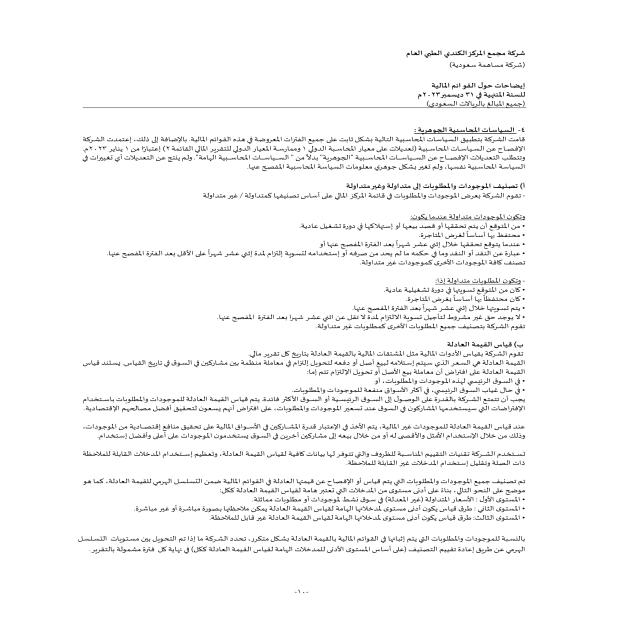notes: (428, 79, 532, 90)
text: (34, 119, 533, 580)
